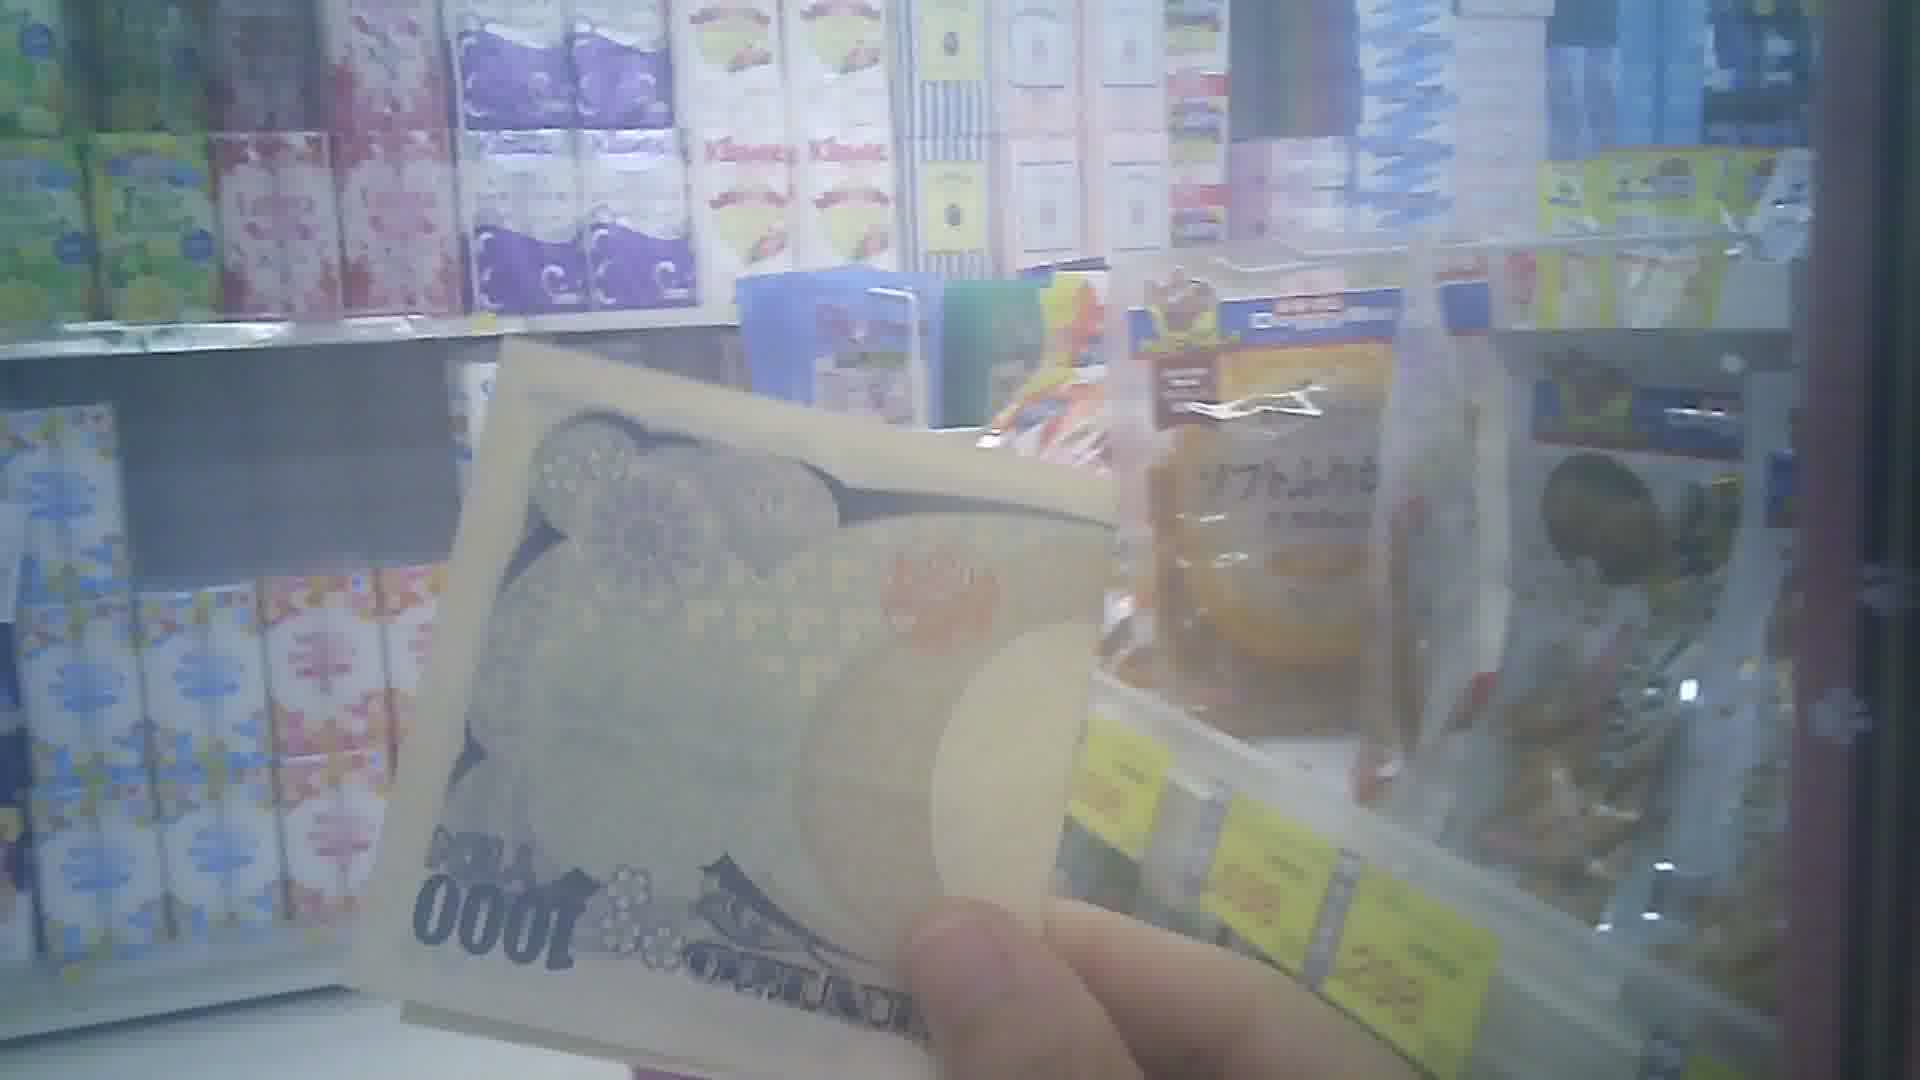1,000 Yen: (378, 330, 1191, 1079)
